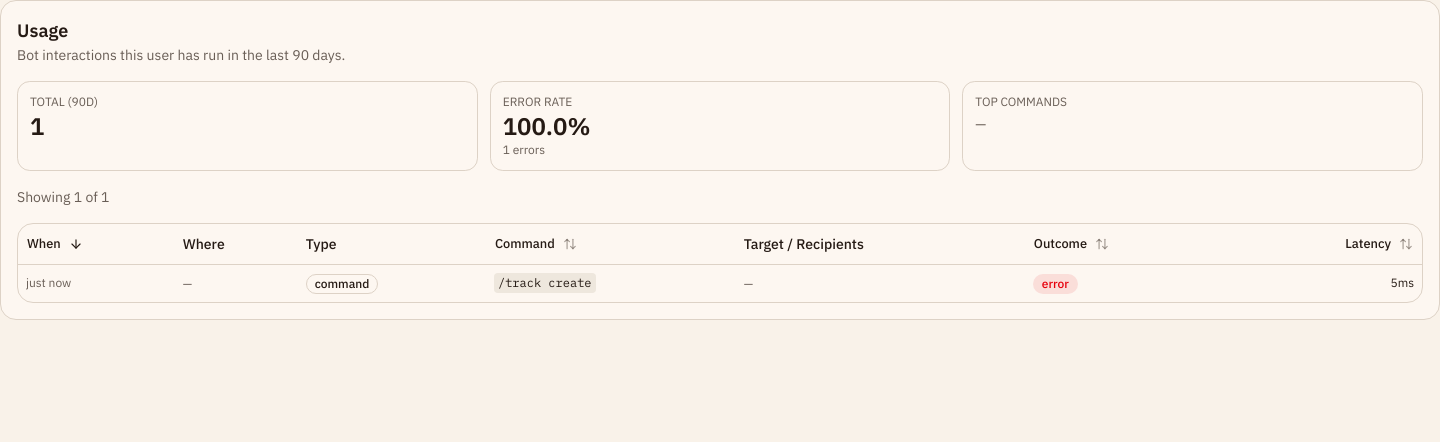
UsageSection › error outcome renders destructive badge
Expected: the text "Error rate" is shown, [503, 94, 572, 109]
errorCode visible after expansion — click the row via the command code cell
Click the text "/track create": (49, 282) [18, 264, 1422, 302]
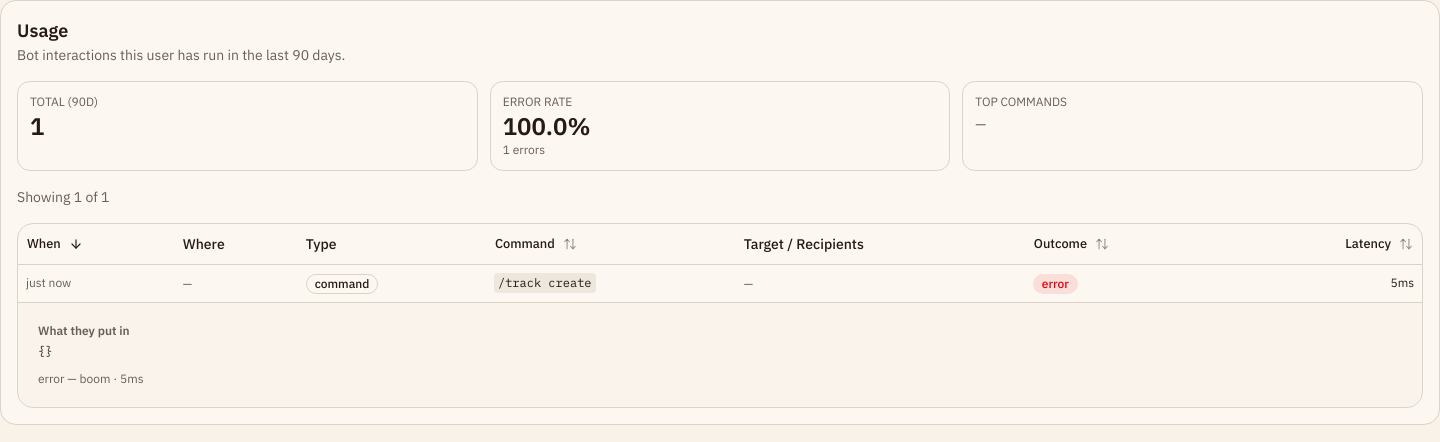
Expected: the text "error — boom · 5ms" is shown, [38, 370, 144, 386]
